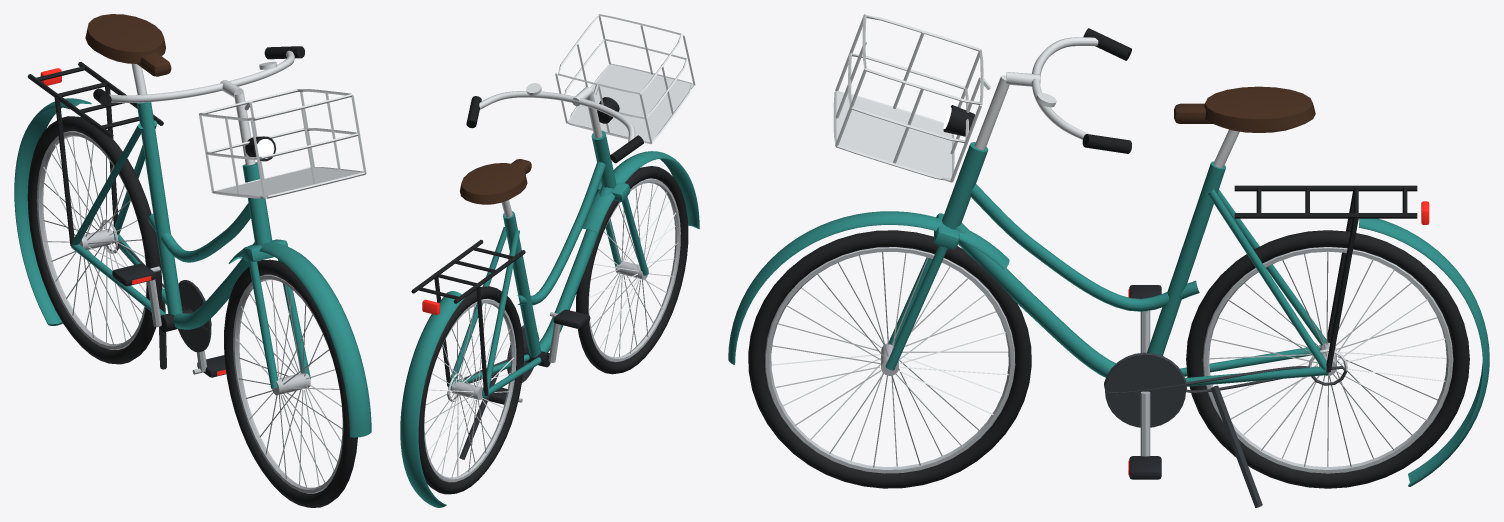
The model's file is bicycle.glb.
The picture shows the model from 3 angles, left to right: view 1: azimuth 30°, elevation 25°; view 2: azimuth 150°, elevation 25°; view 3: azimuth 270°, elevation 25°; orthographic projection. The views are drawn at different scales.
Parts seen in each view (by area): view 1: Bicycle, Fork, Wheel_R, Wheel_F, Crank, Pedal_R, Pedal_L; view 2: Bicycle, Fork, Wheel_F, Wheel_R, Pedal_R, Crank; view 3: Bicycle, Wheel_F, Fork, Wheel_R, Crank.
Boxes of the visible parts, bbox=[...] form: Bicycle: bbox=[14, 14, 272, 369]; Fork: bbox=[93, 46, 371, 437]; Wheel_R: bbox=[27, 116, 161, 364]; Wheel_F: bbox=[224, 259, 357, 507]; Crank: bbox=[147, 271, 211, 371]; Pedal_R: bbox=[112, 263, 160, 286]; Pedal_L: bbox=[192, 355, 226, 377]; Bicycle: bbox=[400, 130, 616, 507]; Fork: bbox=[466, 14, 699, 275]; Wheel_F: bbox=[576, 166, 688, 374]; Wheel_R: bbox=[418, 286, 523, 494]; Pedal_R: bbox=[549, 309, 590, 328]; Crank: bbox=[507, 316, 560, 382]; Bicycle: bbox=[942, 86, 1489, 507]; Wheel_F: bbox=[748, 230, 1031, 488]; Fork: bbox=[728, 14, 1131, 370]; Wheel_R: bbox=[1186, 230, 1469, 488]; Crank: bbox=[1105, 310, 1185, 456].
Bounding box in the file's own units: 0.6531 × 1.22 × 1.88.
